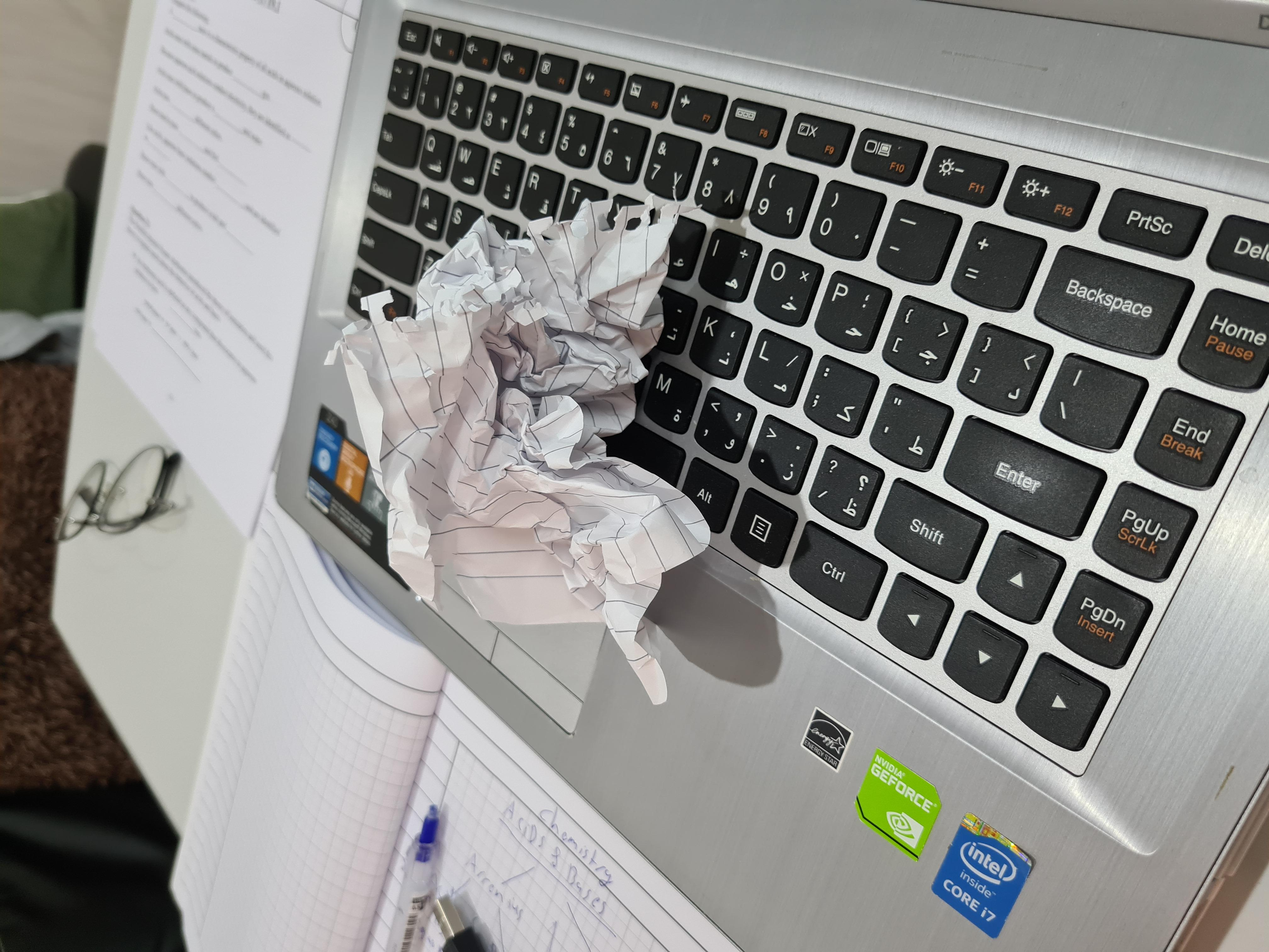paper: (370, 241, 1005, 541)
